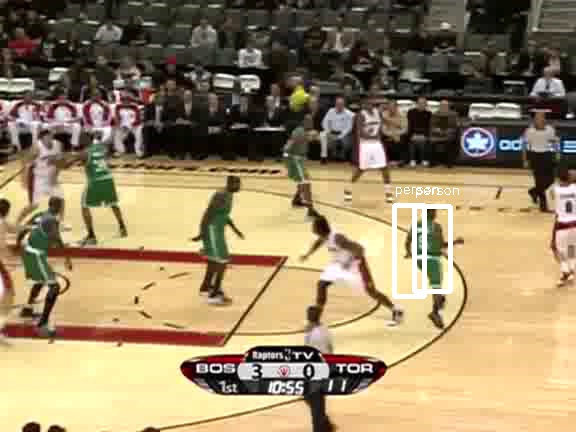person: (410, 215, 444, 296), (409, 215, 443, 296), (411, 215, 445, 296), (410, 214, 444, 295), (410, 216, 444, 297)
target_negative: (123, 55, 233, 378), (360, 214, 533, 244), (367, 150, 387, 296), (190, 76, 346, 87), (517, 130, 545, 168), (401, 408, 542, 414)
